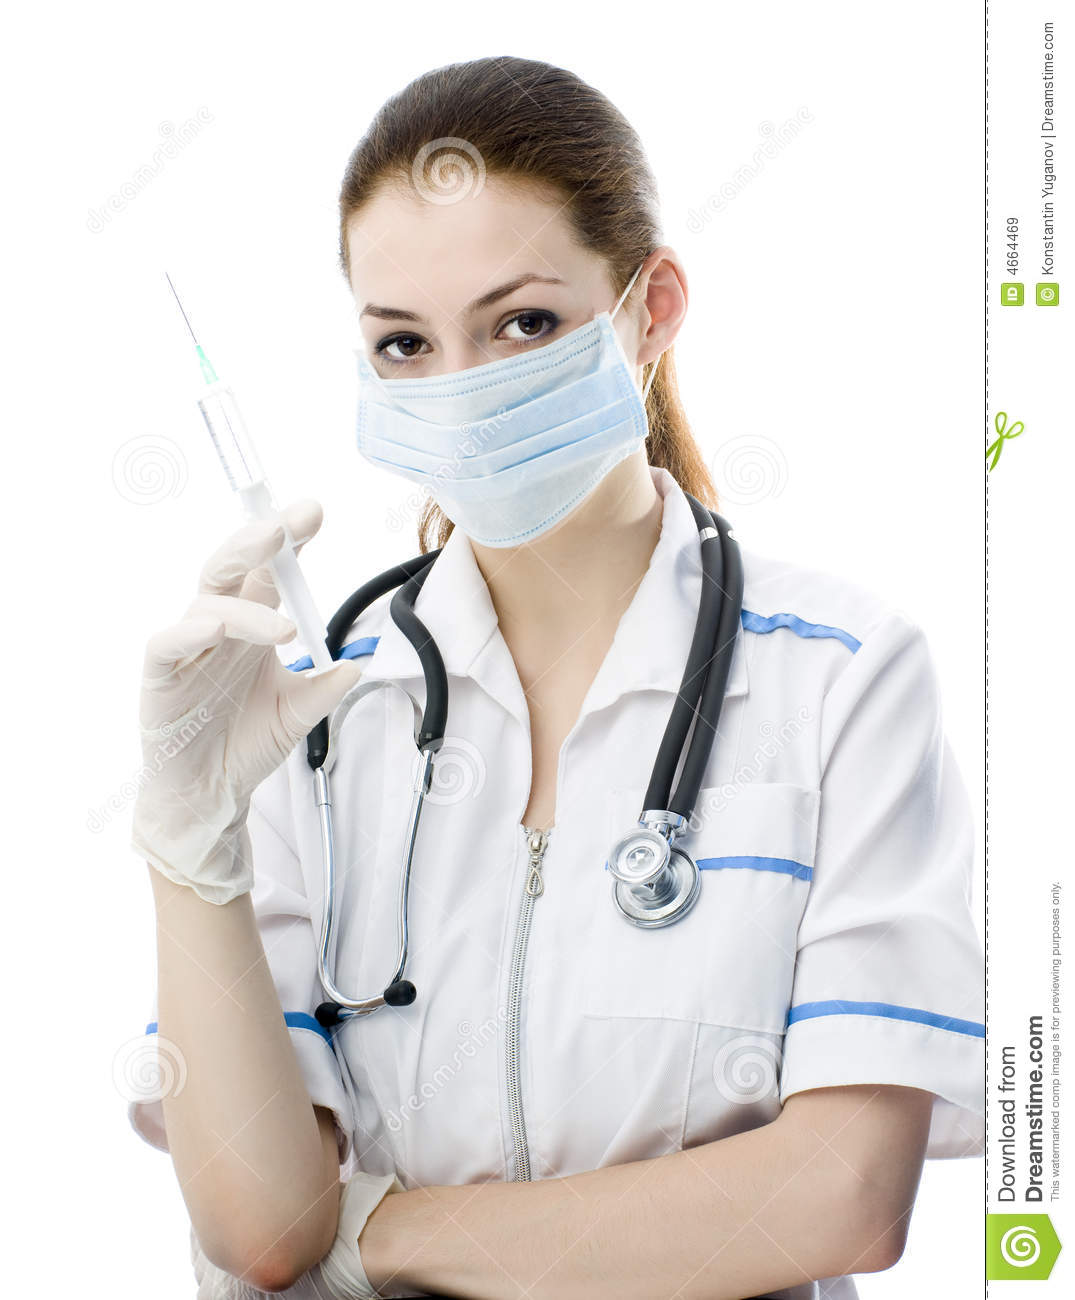mask: (353, 324, 650, 544)
